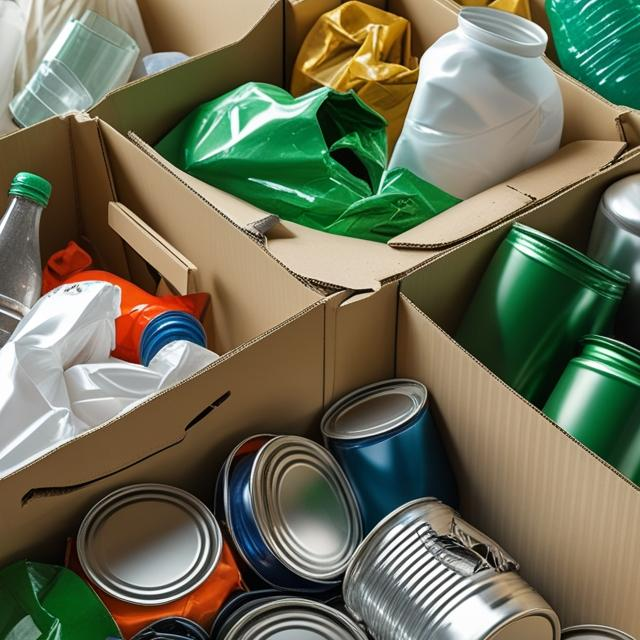metal: (322, 505, 585, 640)
plastic: (533, 0, 640, 122)
